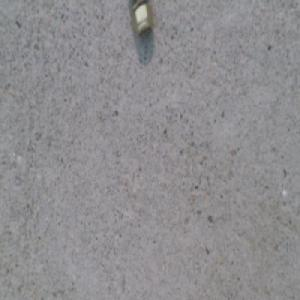BoltNutSet: (130, 1, 150, 39)
